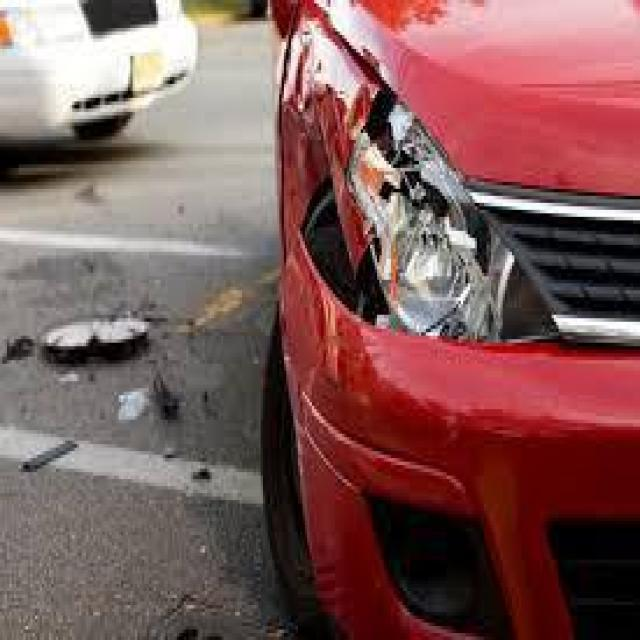damaged: (288, 14, 512, 371)
